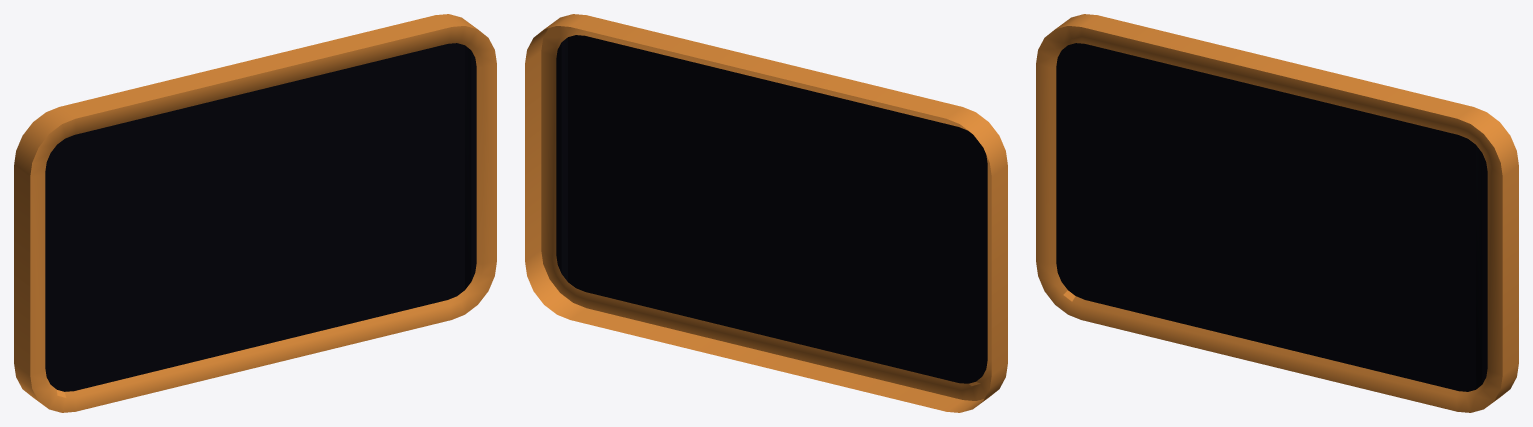
File: SM_PCEcran.FBX
The picture shows the model from 3 angles, left to right: view 1: azimuth 30°, elevation 25°; view 2: azimuth 150°, elevation 25°; view 3: azimuth 330°, elevation 25°; orthographic projection.
Visible parts, largest first — view 1: pc_ecran; view 2: pc_ecran; view 3: pc_ecran.
Part boxes in pixels (x1,y1,x2,y2): pc_ecran: (14, 14, 496, 412); pc_ecran: (525, 14, 1007, 412); pc_ecran: (1036, 14, 1518, 412).
Bounding box in the file's own units: 1000 × 600 × 60.
